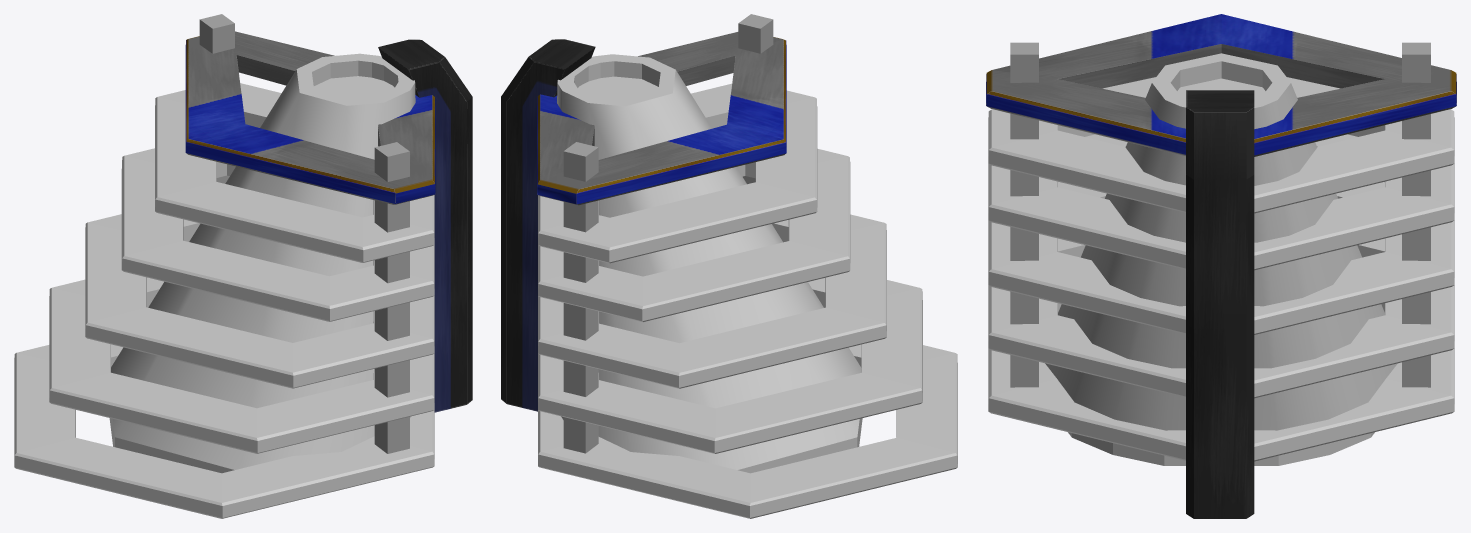
The model's file is Academy.fbx.
3 renders of one model, left to right at view 1: azimuth 30°, elevation 25°; view 2: azimuth 150°, elevation 25°; view 3: azimuth 270°, elevation 25°, orthographic. The views are drawn at different scales.
Visible parts, largest first — view 1: polySurface1, polySurface14, polySurface13, polySurface12, polySurface2, polySurface4, polySurface11, polySurface10, polySurface9, polySurface8; view 2: polySurface1, polySurface14, polySurface13, polySurface12, polySurface2, polySurface4, polySurface11, polySurface10, polySurface8, polySurface9; view 3: polySurface1, polySurface2, polySurface10, polySurface11, polySurface4, polySurface12, polySurface13, polySurface14, polySurface9, polySurface8.
Part boxes in pixels (bbox=[...]): polySurface1: bbox=[109, 53, 415, 473]; polySurface14: bbox=[14, 344, 434, 518]; polySurface13: bbox=[49, 277, 434, 453]; polySurface12: bbox=[85, 214, 434, 388]; polySurface2: bbox=[185, 31, 435, 204]; polySurface4: bbox=[121, 148, 434, 321]; polySurface11: bbox=[155, 83, 434, 262]; polySurface10: bbox=[378, 39, 472, 412]; polySurface9: bbox=[374, 142, 409, 453]; polySurface8: bbox=[199, 14, 234, 183]; polySurface1: bbox=[557, 54, 862, 473]; polySurface14: bbox=[538, 344, 957, 518]; polySurface13: bbox=[538, 278, 922, 453]; polySurface12: bbox=[538, 214, 886, 388]; polySurface2: bbox=[537, 32, 786, 205]; polySurface4: bbox=[538, 148, 850, 321]; polySurface11: bbox=[538, 83, 817, 263]; polySurface10: bbox=[501, 39, 595, 411]; polySurface8: bbox=[563, 142, 598, 453]; polySurface9: bbox=[738, 14, 773, 184]; polySurface1: bbox=[1045, 53, 1397, 465]; polySurface2: bbox=[986, 14, 1456, 156]; polySurface10: bbox=[1186, 90, 1254, 518]; polySurface11: bbox=[988, 77, 1454, 213]; polySurface4: bbox=[988, 134, 1454, 270]; polySurface12: bbox=[988, 182, 1454, 334]; polySurface13: bbox=[988, 238, 1454, 398]; polySurface14: bbox=[988, 303, 1454, 461]; polySurface9: bbox=[1010, 42, 1038, 387]; polySurface8: bbox=[1402, 42, 1430, 387].
Size of the model in its own units: 3.12 by 2.34 by 2.55.
